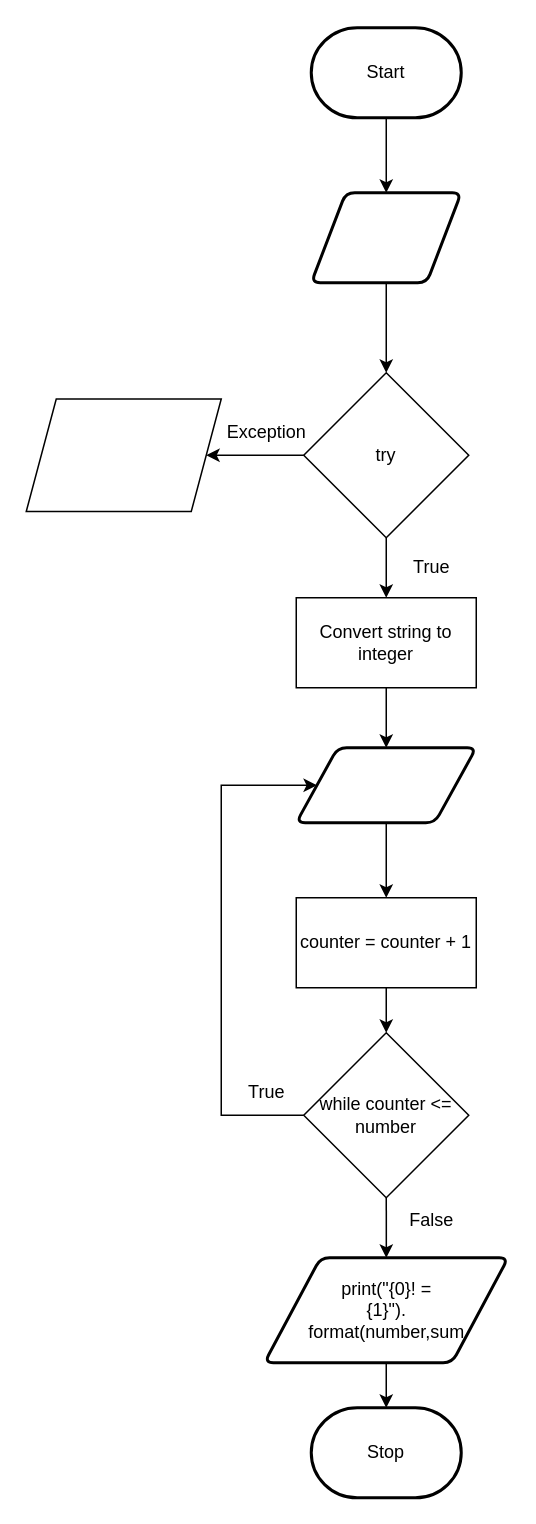
This 536x1524 diagram has some shape labels left out. Each missing label, with the box of its shape:
( ͝סּ ͜ʖ͡סּ) umm. That's some strange input dude pls enter a integer: (25, 398, 221, 512)
Get number: (309, 190, 462, 284)
sum = sum*counter: (294, 746, 477, 824)
